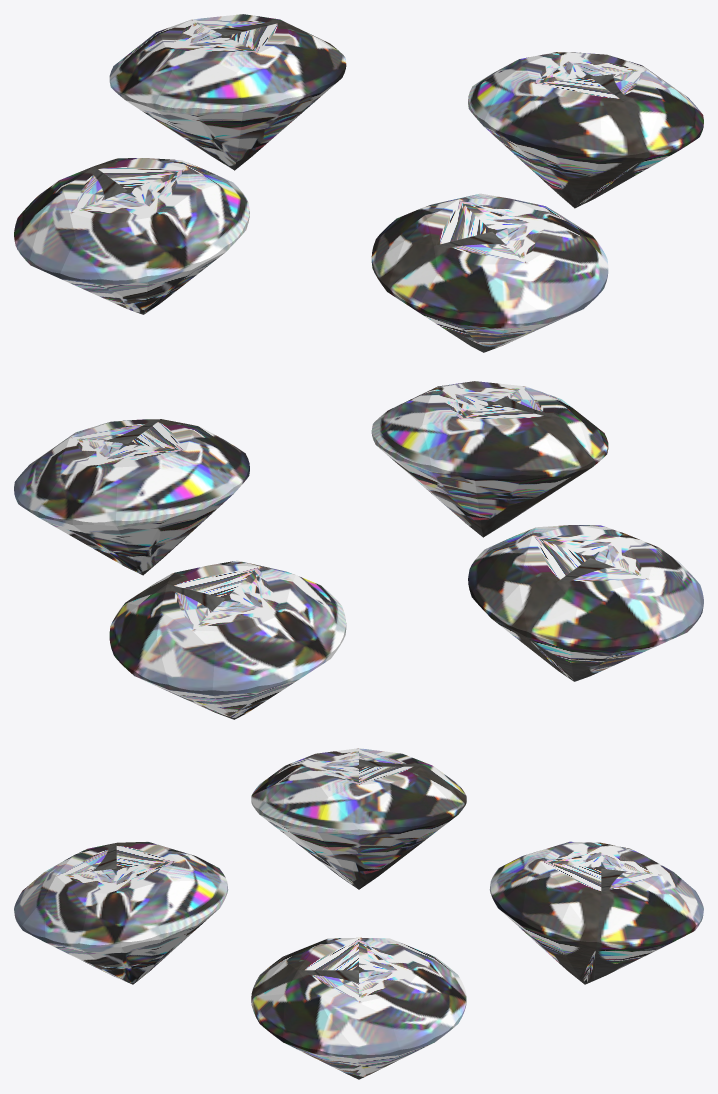
The model's file is RING 8 ENAMEL AND GOLD TOP STONES.fbx.
3 renders of one model, top to bottom at view 1: azimuth 30°, elevation 25°; view 2: azimuth 150°, elevation 25°; view 3: azimuth 270°, elevation 25°, orthographic. The views are drawn at different scales.
Parts seen in each view (by area): view 1: Object_1, Object_3, Object_5, Object_4; view 2: Object_4, Object_3, Object_5, Object_1; view 3: Object_5, Object_1, Object_4, Object_3.
Part boxes in pixels (bbox=[...]): Object_1: bbox=[371, 193, 608, 352]; Object_3: bbox=[14, 158, 249, 314]; Object_5: bbox=[468, 52, 703, 208]; Object_4: bbox=[109, 14, 346, 170]; Object_4: bbox=[109, 560, 346, 719]; Object_3: bbox=[468, 525, 703, 681]; Object_5: bbox=[14, 419, 249, 575]; Object_1: bbox=[371, 381, 608, 537]; Object_5: bbox=[251, 937, 466, 1079]; Object_1: bbox=[14, 841, 228, 984]; Object_4: bbox=[489, 841, 703, 984]; Object_3: bbox=[251, 748, 466, 889].
Size of the model in its own units: 5.08 by 5.08 by 1.01.
1 material, 1 textured.
